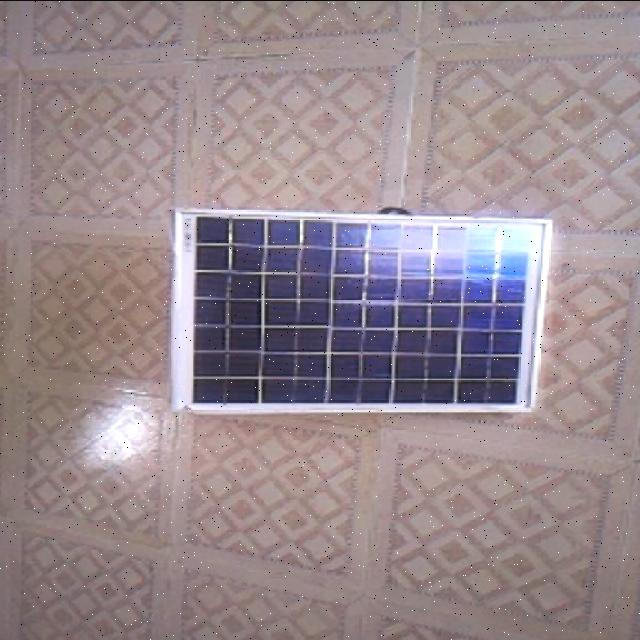Normal Solar Panel: (171, 208, 552, 412)
